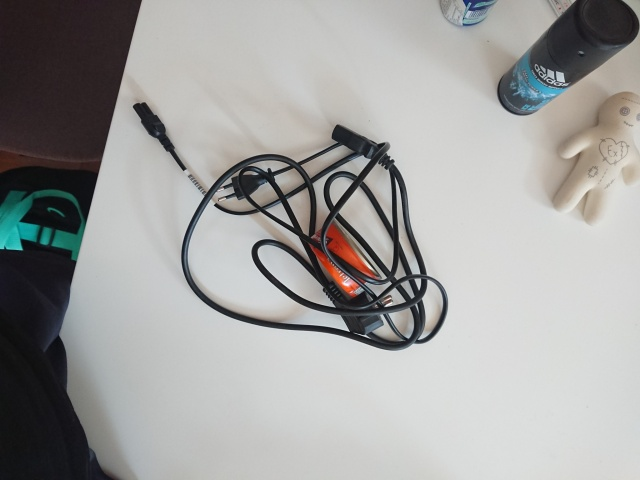Gavrilovic Pork Liver Pate 100g: (304, 216, 384, 302)
